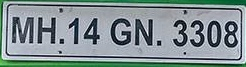character: (10, 14, 34, 44), (109, 17, 131, 45), (36, 15, 56, 44), (133, 16, 153, 45), (83, 16, 100, 45), (189, 17, 205, 47), (171, 18, 187, 47), (206, 18, 221, 48), (223, 20, 238, 47), (67, 16, 79, 45)
